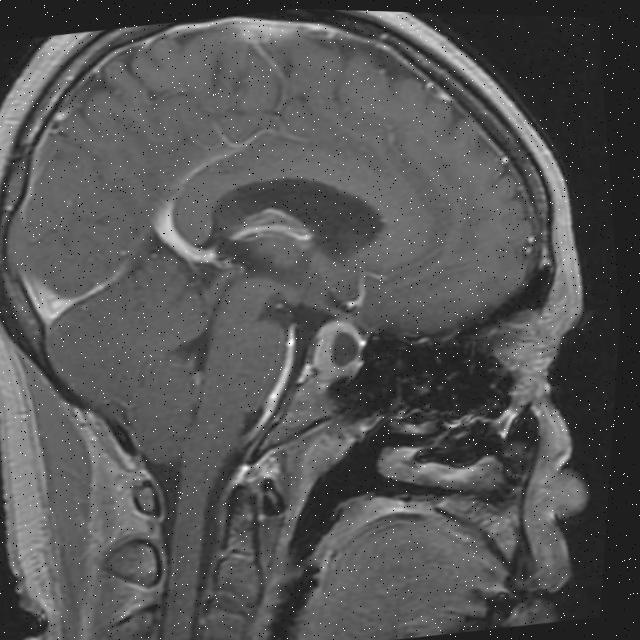Pituitary: (305, 315, 370, 386)
